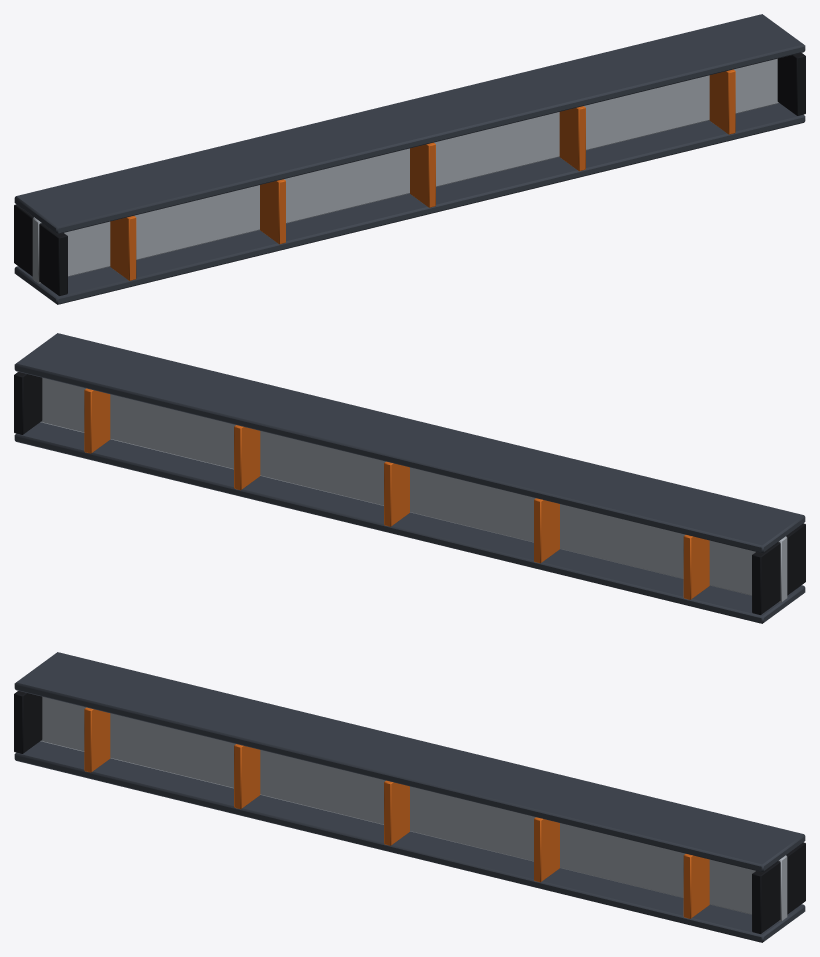
Rendered from pillar_h_beam_4m.glb.
3 views of the same model, one above another, from view 1: azimuth 30°, elevation 25°; view 2: azimuth 150°, elevation 25°; view 3: azimuth 330°, elevation 25° (orthographic).
Visible parts, largest first — view 1: pillar_h_beam_4m; view 2: pillar_h_beam_4m; view 3: pillar_h_beam_4m.
Boxes of the visible parts, bbox=[...] form: pillar_h_beam_4m: bbox=[14, 14, 805, 304]; pillar_h_beam_4m: bbox=[14, 333, 805, 623]; pillar_h_beam_4m: bbox=[14, 652, 805, 942].
Bounding box in the file's own units: 4 × 0.4 × 0.42.
